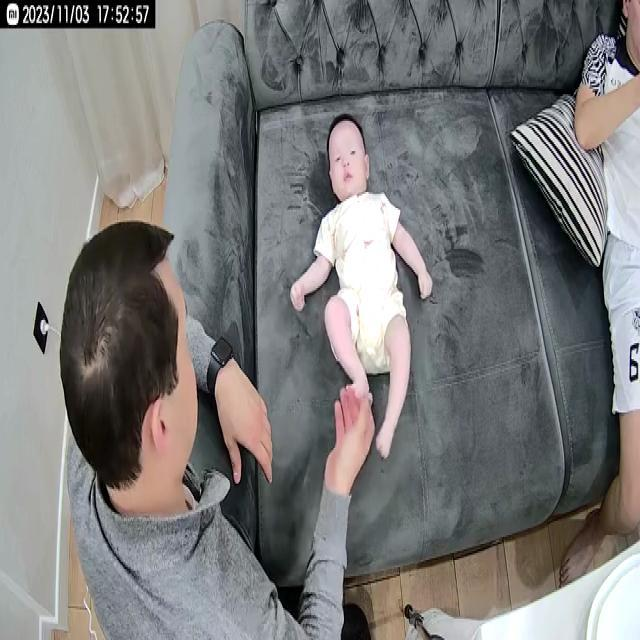baby: (287, 110, 435, 463)
